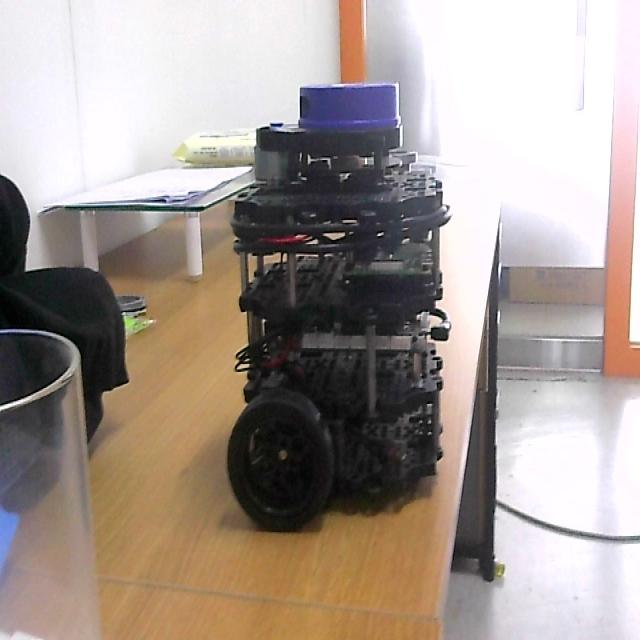turtle: (225, 79, 454, 535)
